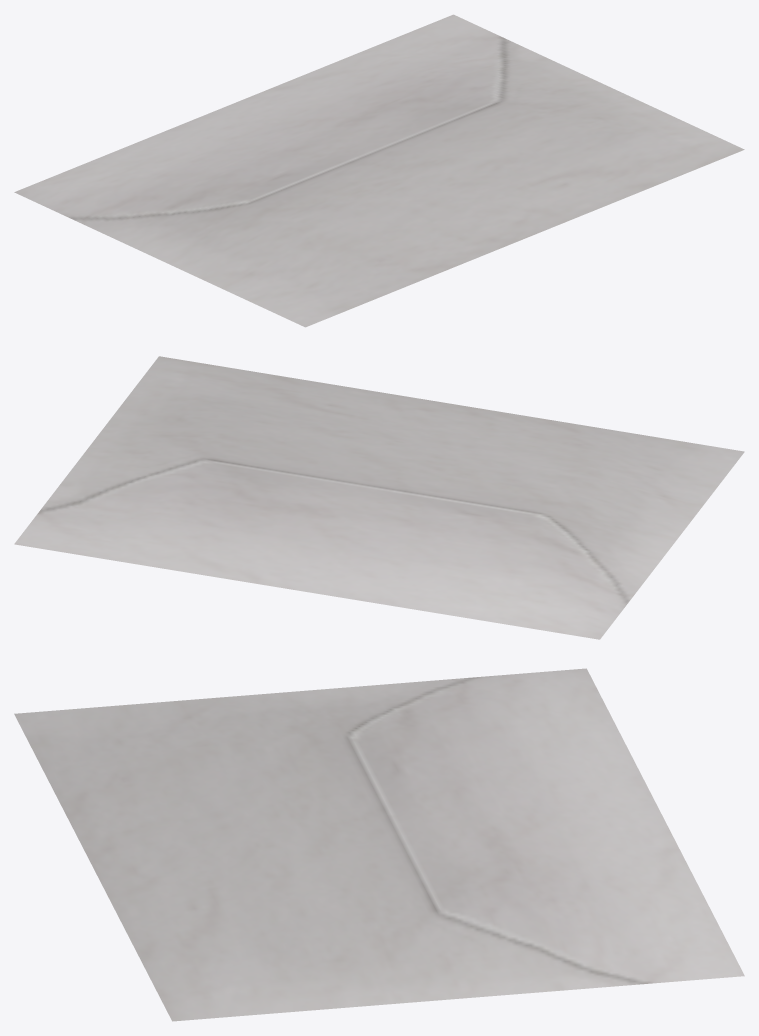
The model's file is ZhiBanShi_01_xinfeng_01.FBX.
3 renders of one model, top to bottom at view 1: azimuth 30°, elevation 25°; view 2: azimuth 150°, elevation 25°; view 3: azimuth 270°, elevation 25°, orthographic. The views are drawn at different scales.
Visible parts, largest first — view 1: ZhiBanShi_xinfeng_01; view 2: ZhiBanShi_xinfeng_01; view 3: ZhiBanShi_xinfeng_01.
Part boxes in pixels (left/top/right/bottom): ZhiBanShi_xinfeng_01: left=14, top=14, right=744, bottom=327; ZhiBanShi_xinfeng_01: left=14, top=356, right=744, bottom=639; ZhiBanShi_xinfeng_01: left=14, top=668, right=744, bottom=1021.
Bounding box in the file's own units: 92.43 × 4.13 × 76.27.
